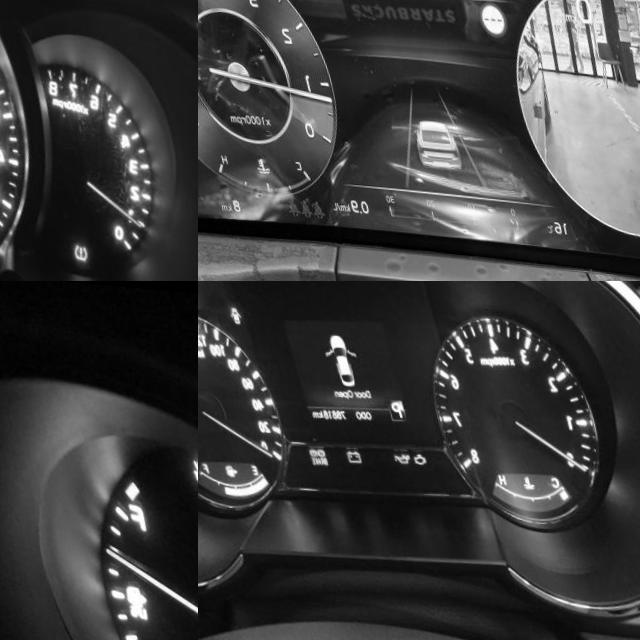Doors: (222, 302, 237, 320)
